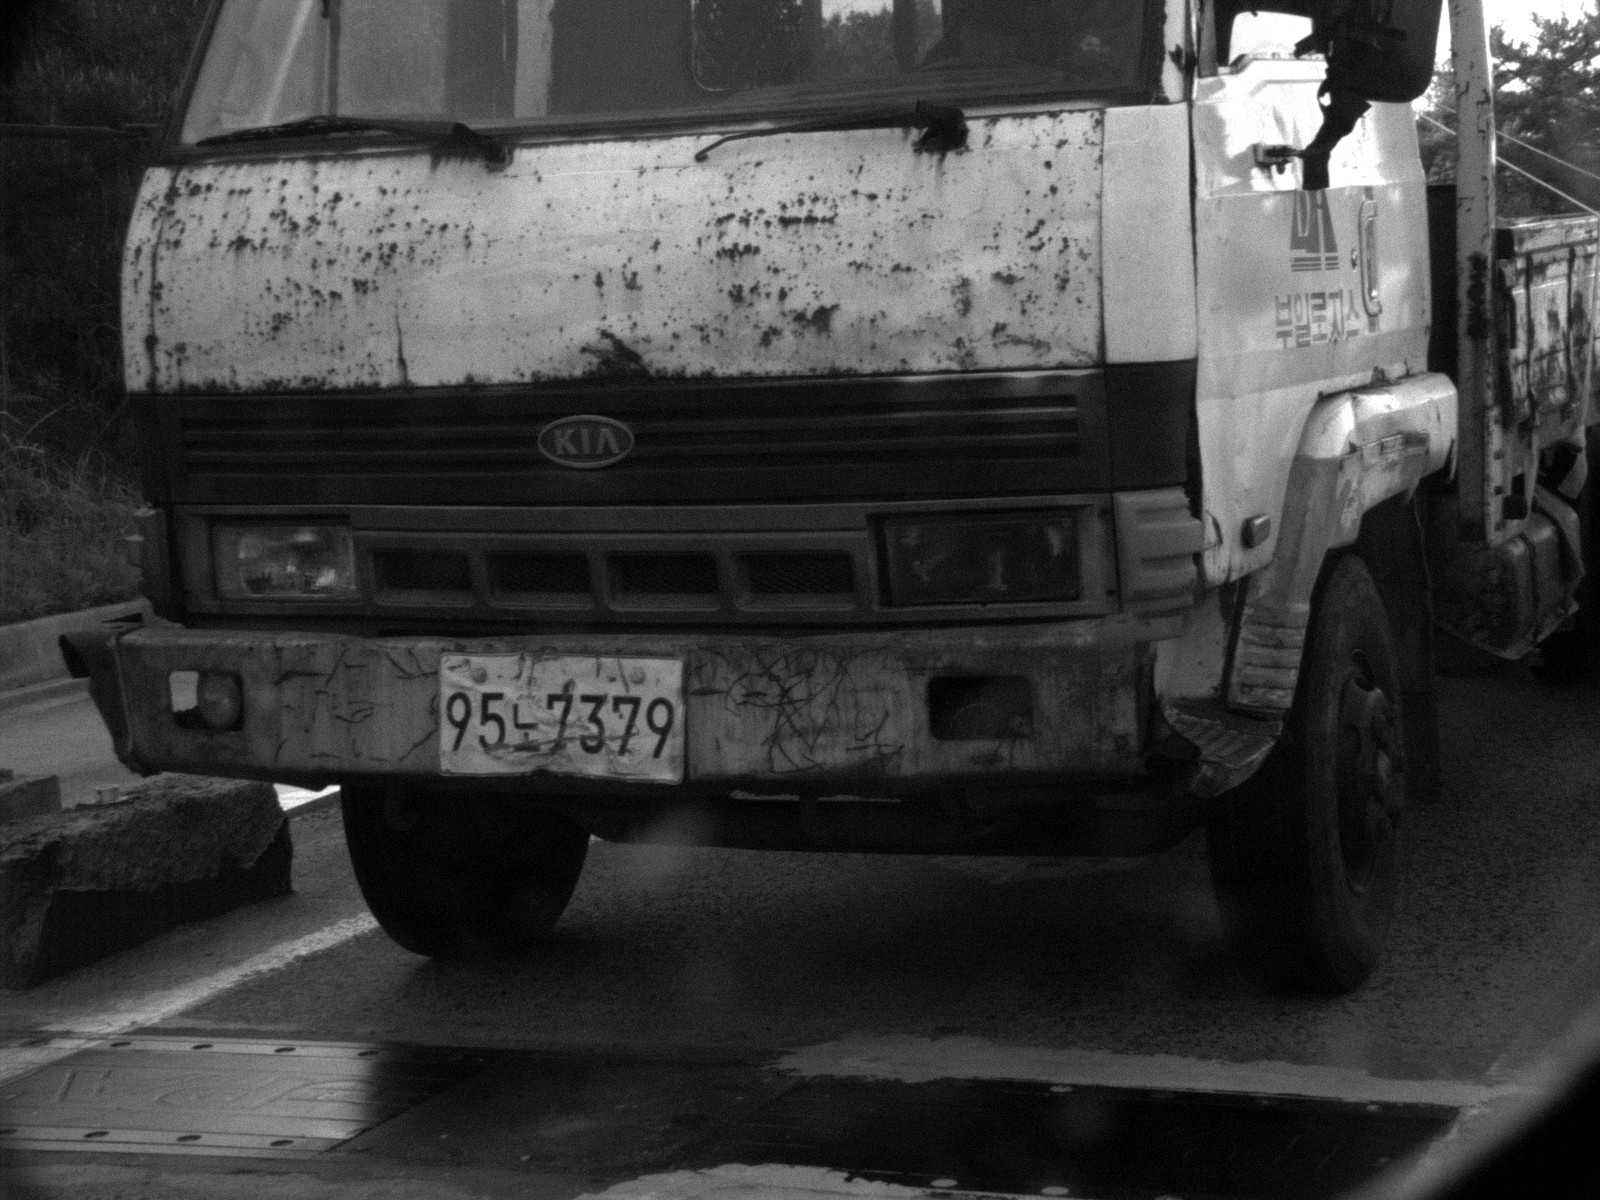car: (59, 1, 1599, 1002)
plate: (434, 653, 692, 783)
